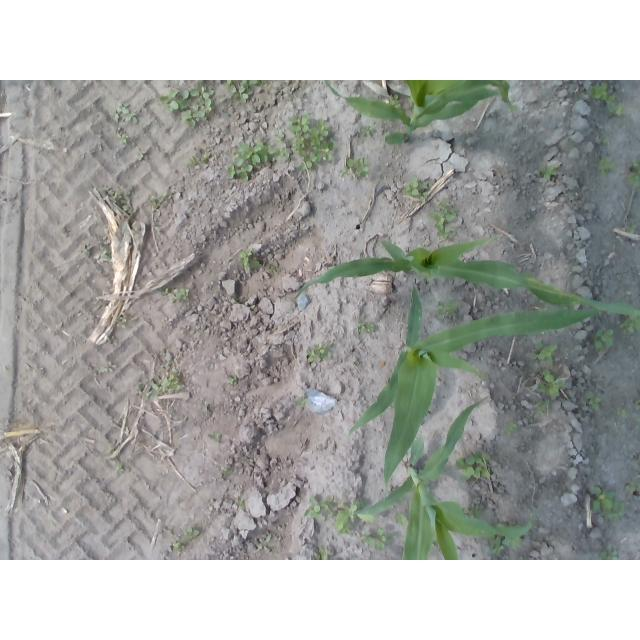Maize: (349, 289, 622, 495), (338, 392, 535, 560), (291, 240, 640, 317), (318, 80, 515, 145)
Weeds: (158, 81, 214, 129), (288, 114, 336, 170), (226, 140, 290, 182), (333, 501, 375, 534), (592, 486, 627, 523), (429, 199, 460, 239), (456, 451, 493, 480), (222, 81, 268, 104), (150, 370, 182, 400), (535, 369, 565, 398), (361, 527, 395, 551), (306, 496, 335, 523), (403, 176, 429, 205), (110, 186, 135, 215), (173, 525, 199, 552), (305, 342, 337, 362), (111, 101, 138, 124), (531, 342, 558, 364), (341, 158, 370, 178), (237, 247, 259, 272), (593, 329, 615, 352), (604, 92, 625, 116), (624, 159, 640, 187), (596, 156, 617, 177), (619, 314, 640, 335), (539, 163, 562, 182), (437, 301, 460, 320), (147, 191, 170, 209), (163, 287, 190, 302), (588, 82, 608, 101), (487, 533, 503, 553), (502, 534, 522, 550), (587, 390, 602, 411), (461, 505, 483, 519), (383, 92, 401, 108), (535, 398, 553, 414), (357, 319, 376, 333), (258, 534, 274, 550), (394, 511, 409, 527), (506, 420, 519, 438), (597, 550, 618, 560), (115, 131, 129, 145), (625, 482, 640, 495), (360, 125, 373, 138), (186, 155, 198, 169), (315, 549, 330, 560), (263, 263, 277, 274), (99, 246, 111, 258), (235, 495, 246, 507), (617, 406, 628, 418), (297, 396, 308, 408), (624, 224, 637, 234), (200, 151, 210, 164), (208, 432, 221, 441), (115, 463, 126, 473), (227, 375, 237, 385), (275, 134, 285, 143), (99, 365, 110, 373), (602, 135, 611, 143), (634, 398, 640, 404)
